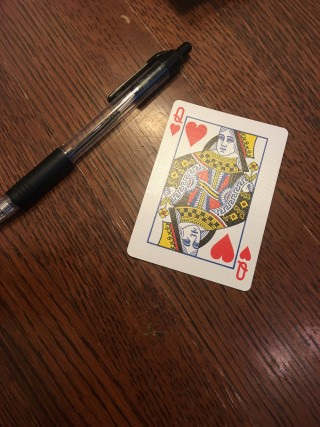QueenOfHearts: (127, 99, 290, 292)
